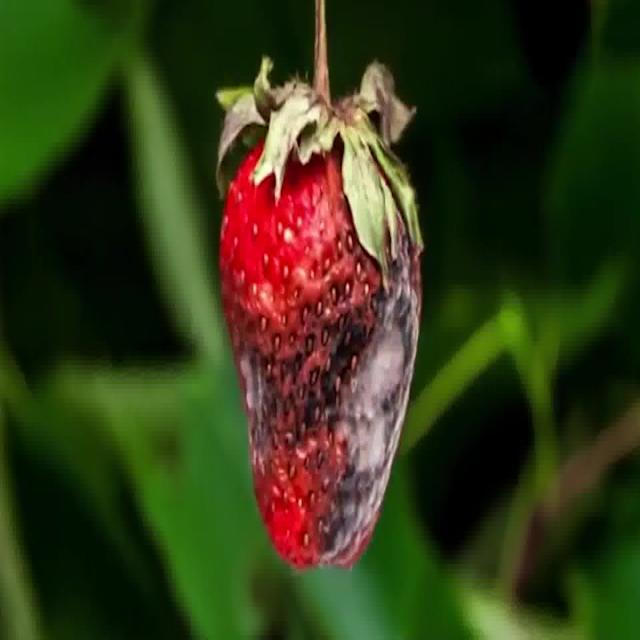Moho gris: (218, 94, 424, 586)
